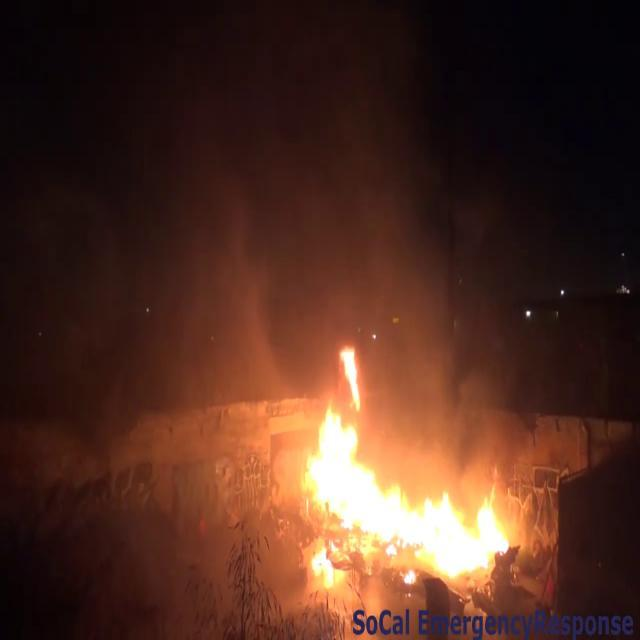Fire: (286, 302, 536, 600)
Smoke: (117, 30, 466, 412)
